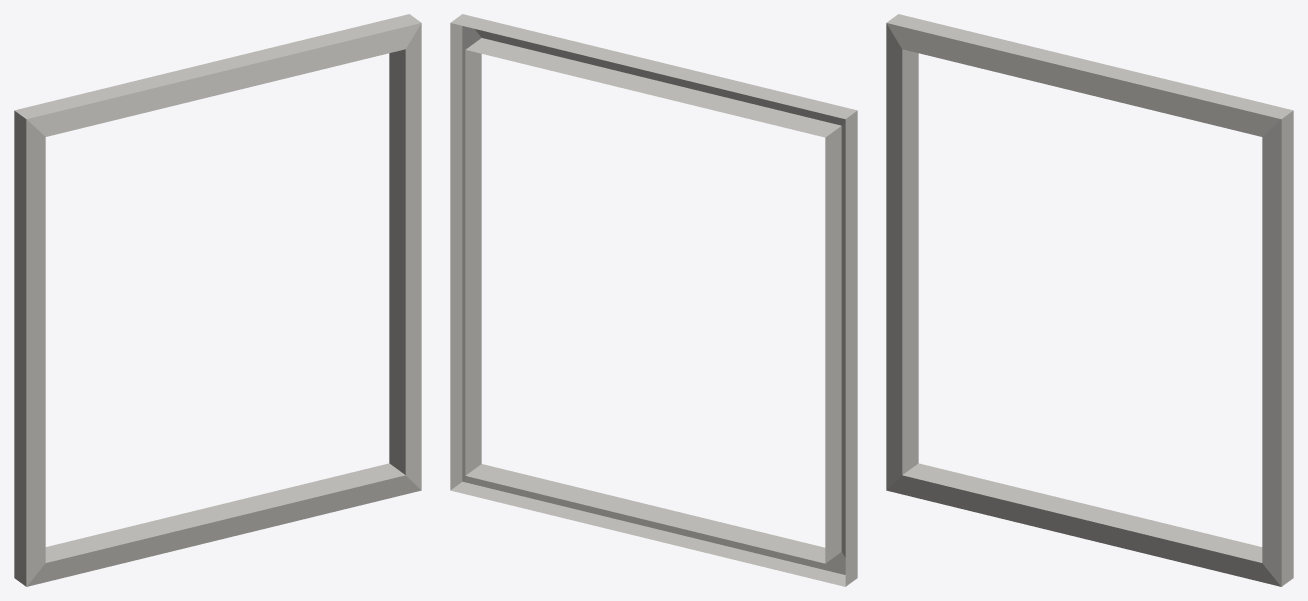
The model's file is WindowFrame.fbx.
The picture shows the model from 3 angles, left to right: view 1: azimuth 30°, elevation 25°; view 2: azimuth 150°, elevation 25°; view 3: azimuth 330°, elevation 25°; orthographic projection.
Visible parts, largest first — view 1: Windowframe; view 2: Windowframe; view 3: Windowframe.
Part boxes in pixels (<box>): Windowframe: <box>14,14,421,586</box>; Windowframe: <box>450,14,857,586</box>; Windowframe: <box>886,14,1293,586</box>.
Bounding box in the file's own units: 84.15 × 95.17 × 6.03.
